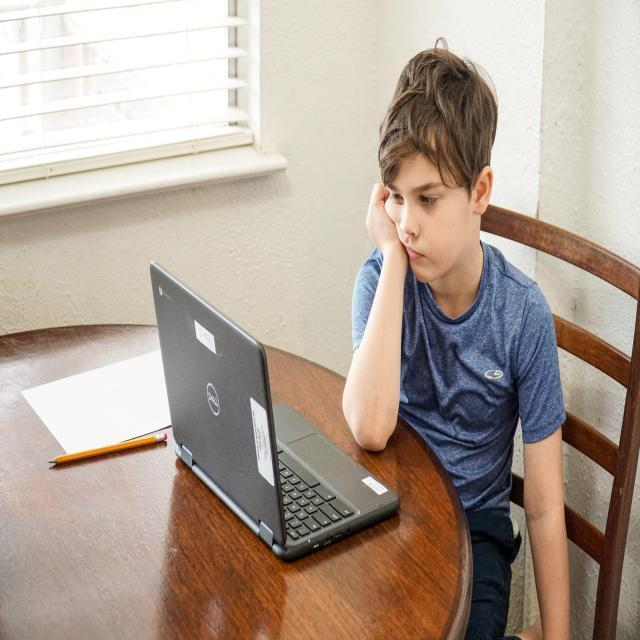Looking forward: (380, 150, 473, 284)
